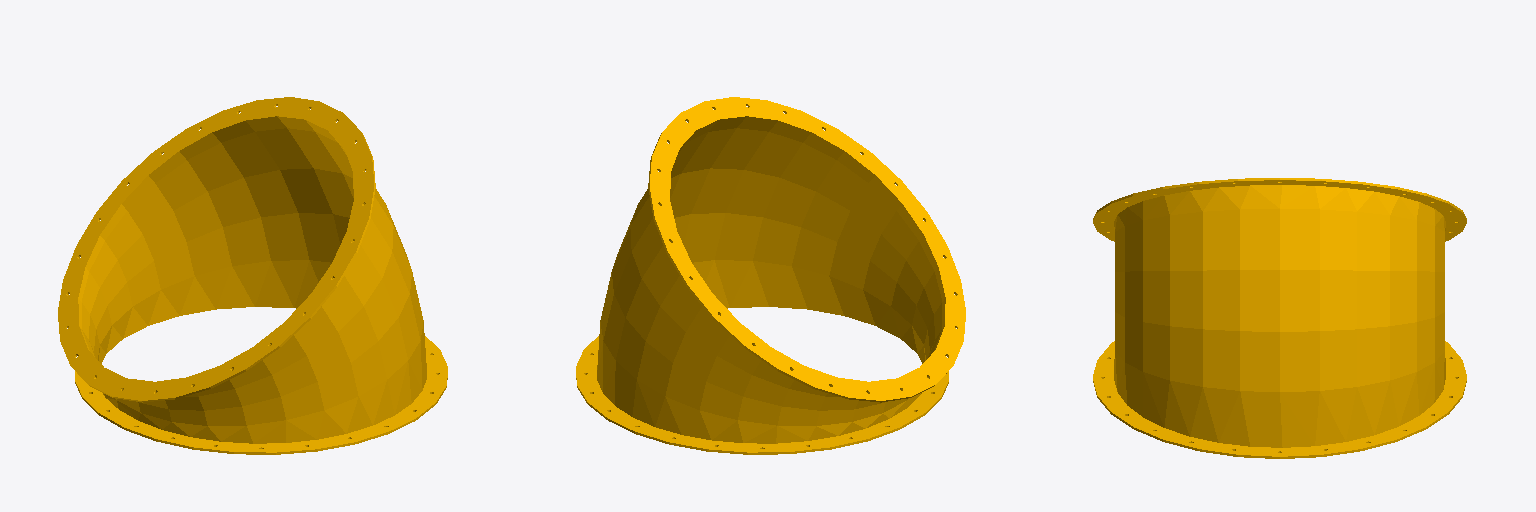
File: dreje-38-obj.obj
The picture shows the model from 3 angles: view 1: azimuth 30°, elevation 25°; view 2: azimuth 150°, elevation 25°; view 3: azimuth 270°, elevation 25°; orthographic projection.
Parts seen in each view (by area): view 1: dreje-38-obj; view 2: dreje-38-obj; view 3: dreje-38-obj.
Part boxes in pixels (left/top/right/bottom): dreje-38-obj: left=58, top=97, right=447, bottom=454; dreje-38-obj: left=576, top=97, right=965, bottom=454; dreje-38-obj: left=1093, top=178, right=1466, bottom=458.
Size of the model in its own units: 0.9099 by 0.6285 by 0.88.